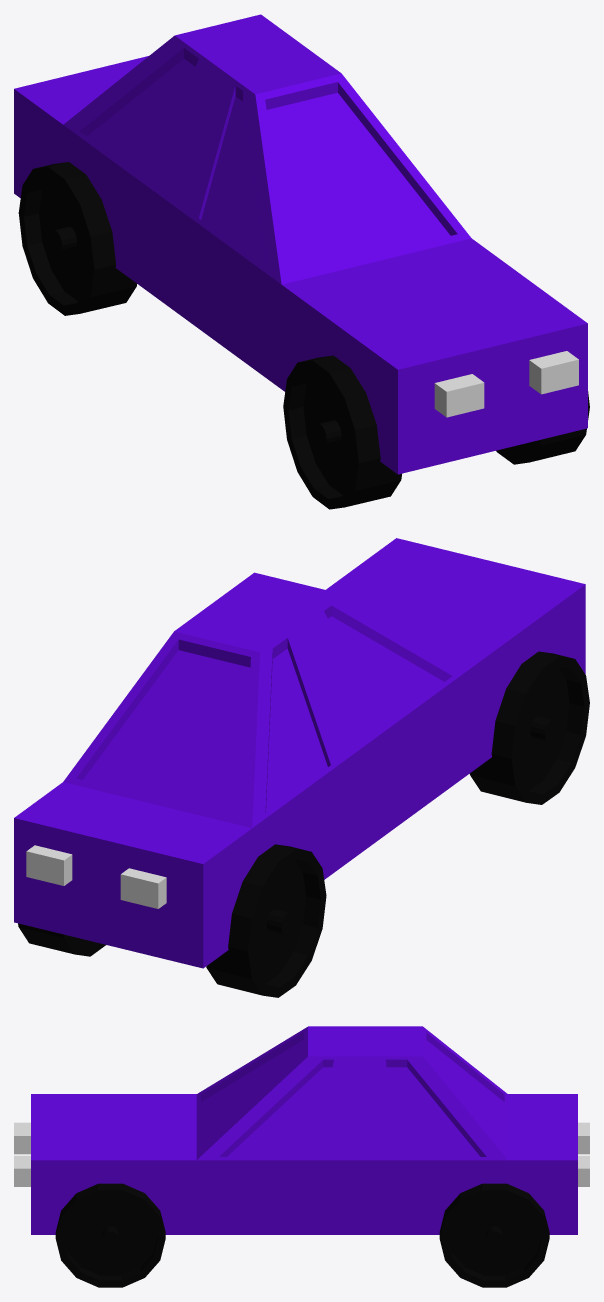
The model's file is car.glb.
3 views of the same model, one above another, from view 1: azimuth 30°, elevation 25°; view 2: azimuth 150°, elevation 25°; view 3: azimuth 270°, elevation 25° (orthographic). The views are drawn at different scales.
Visible parts, largest first — view 1: Cube, Cylinder.002, Cylinder.003, Cube.001, Cube.002, Cylinder; view 2: Cube, Cylinder.003, Cylinder.002, Cube.003, Cube.004, Cylinder.001; view 3: Cube, Cylinder.001, Cylinder, Cube.001, Cube.002, Cube.003, Cube.004.
Part boxes in pixels (bbox=[...]): Cube: bbox=[14, 14, 587, 474]; Cylinder.002: bbox=[283, 355, 401, 509]; Cylinder.003: bbox=[18, 162, 136, 315]; Cube.001: bbox=[434, 374, 484, 417]; Cube.002: bbox=[529, 351, 578, 394]; Cylinder: bbox=[496, 391, 589, 464]; Cube: bbox=[14, 538, 585, 968]; Cylinder.003: bbox=[206, 844, 326, 997]; Cylinder.002: bbox=[469, 651, 589, 804]; Cube.003: bbox=[120, 868, 166, 908]; Cube.004: bbox=[26, 845, 72, 885]; Cylinder.001: bbox=[18, 923, 105, 956]; Cube: bbox=[31, 1026, 577, 1234]; Cylinder.001: bbox=[439, 1183, 549, 1287]; Cylinder: bbox=[55, 1183, 165, 1287]; Cube.001: bbox=[14, 1122, 30, 1154]; Cube.002: bbox=[14, 1155, 30, 1186]; Cube.003: bbox=[578, 1122, 589, 1154]; Cube.004: bbox=[578, 1155, 589, 1186].
Size of the model in its own units: 2.43 by 2.91 by 7.37.
